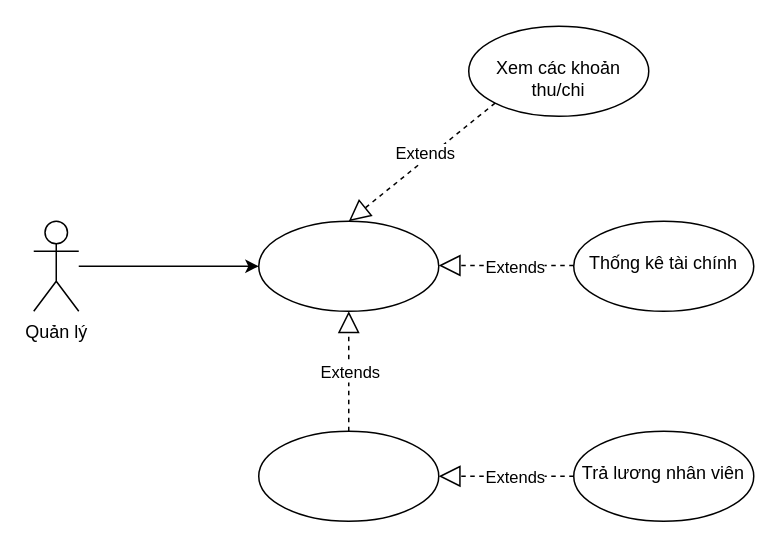
Image size: 780x548. Some labels were removed from this diagram. Here are the shapes that lost their labels. From the top down, the box of each, then its label:
(257, 220, 439, 311): Quản lý tài chính
(257, 430, 439, 521): Tạo khoản chi
